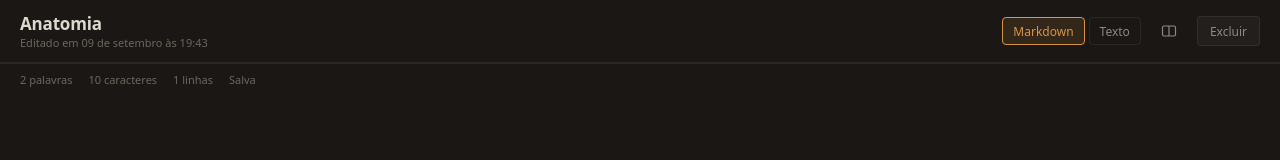
Test: renomear a nota › Esc desiste sem renomear nada
The width and height of the screenshot is (1280, 160).
Click the heading "Anatomia": (61, 24) [20,12,102,35]
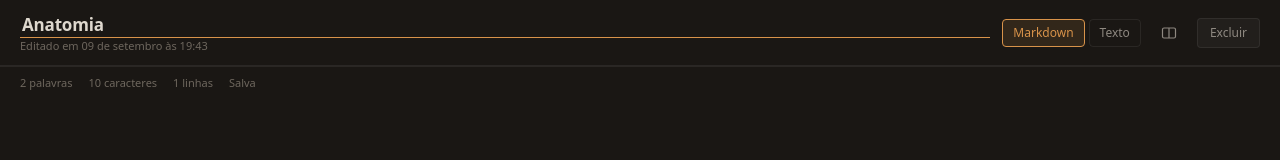
In the field named "Título da nota": (505, 25) [20,12,990,38], type "outro"
Then press Escape
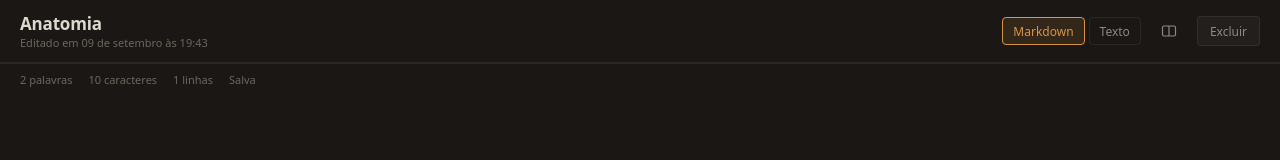
Expected: the heading "Anatomia" is shown, [20,12,102,35]
